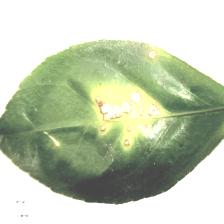canker: (68, 39, 211, 159)
